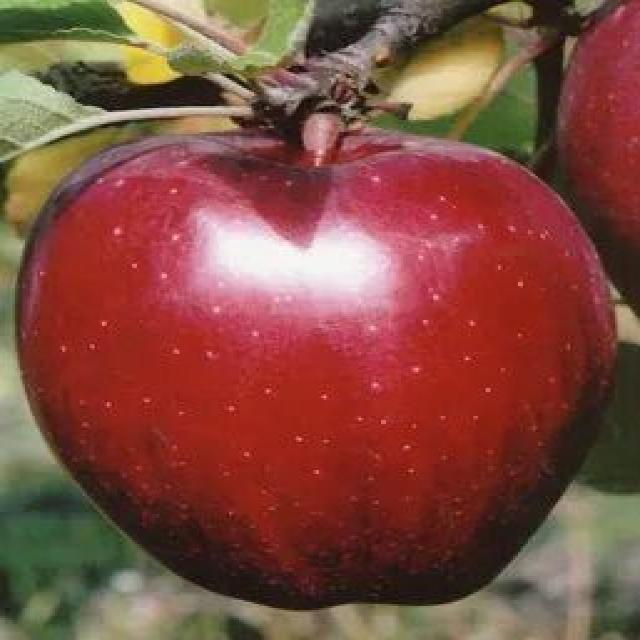Healty Apple: (18, 127, 615, 615)
